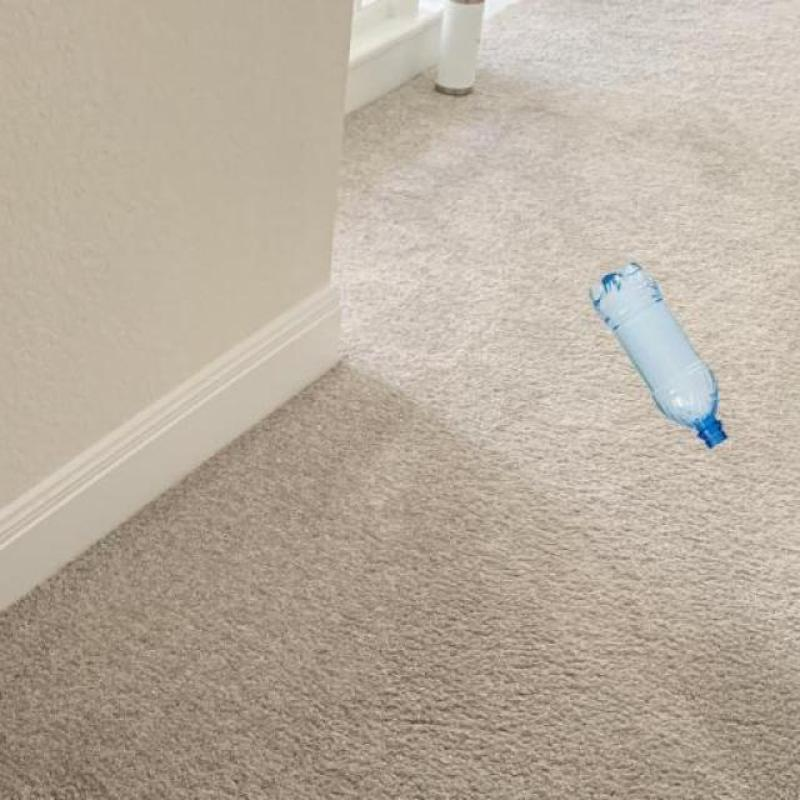botella: (586, 264, 728, 450)
